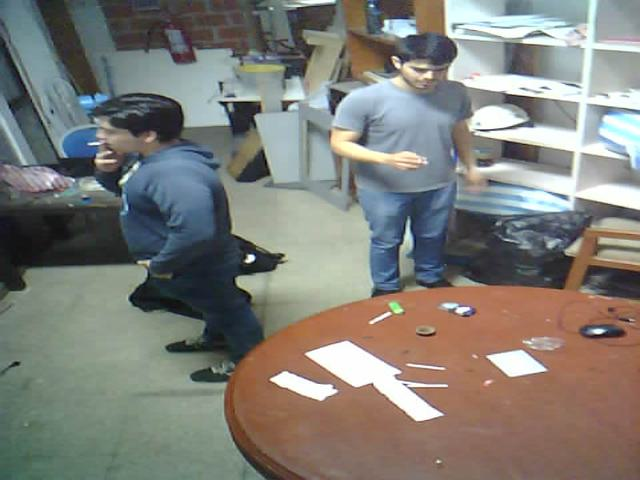person: (59, 80, 280, 390), (318, 7, 504, 310)
